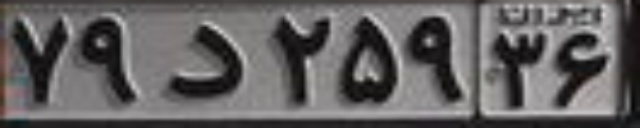2: (266, 13, 333, 104)
3: (491, 29, 549, 108)
5: (334, 14, 398, 105)
6: (551, 30, 611, 109)
7: (9, 14, 73, 104)
9: (404, 14, 467, 102), (79, 16, 135, 105)
dal: (160, 22, 247, 98)
